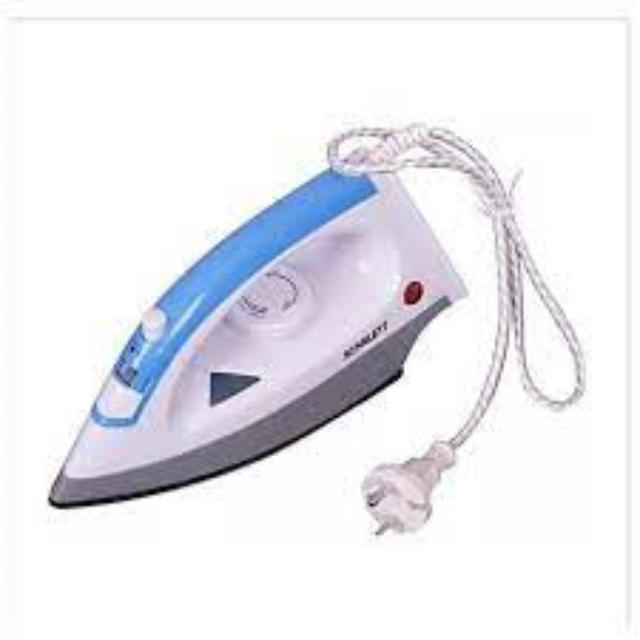Clothes-Iron: (51, 120, 597, 560)
